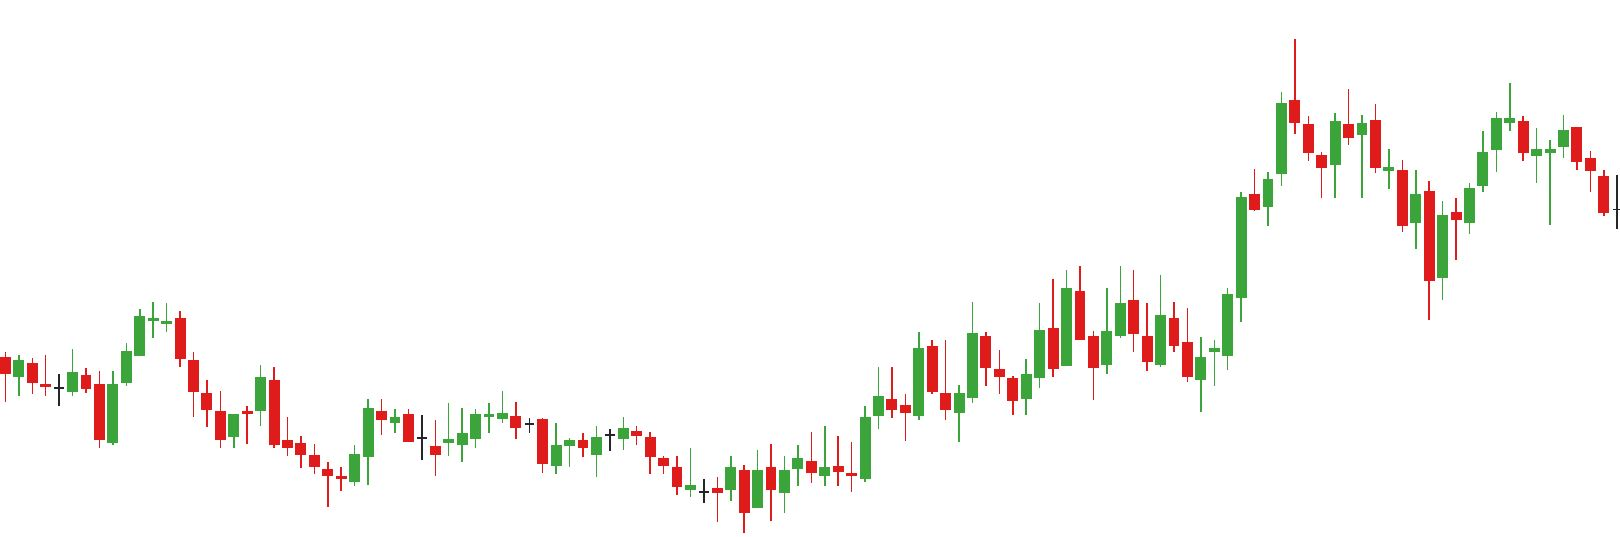buy: (1087, 313, 1211, 423)
sell: (1368, 77, 1532, 206)
